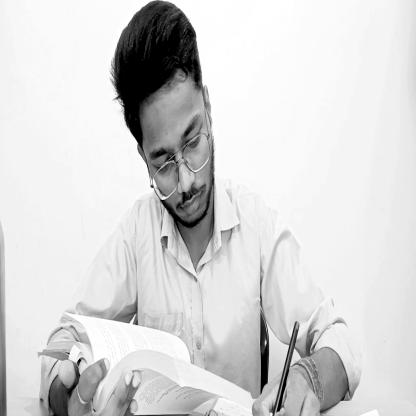Distracted: (112, 2, 219, 235)
